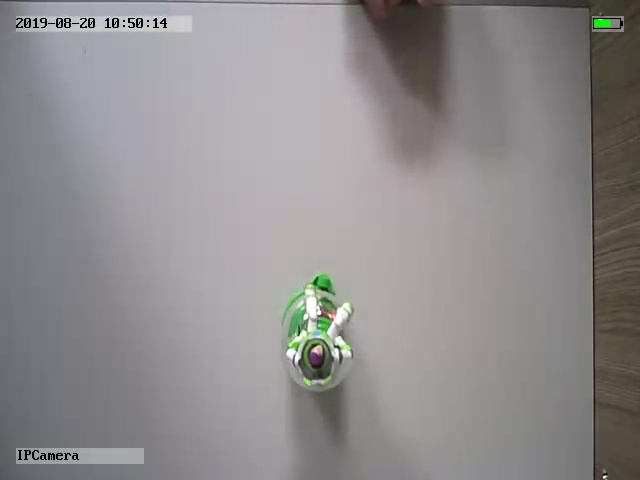buzz: (279, 272, 355, 392)
